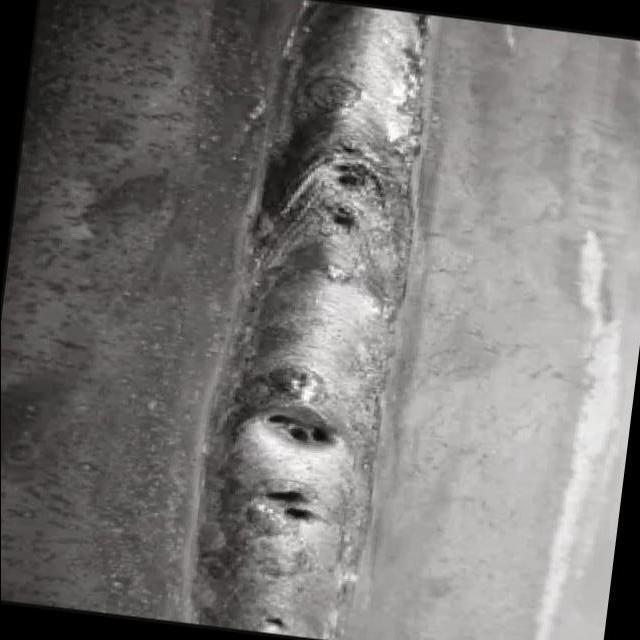defect: (257, 407, 344, 452), (253, 485, 330, 531), (328, 145, 370, 196), (321, 201, 368, 236), (258, 611, 290, 633)
